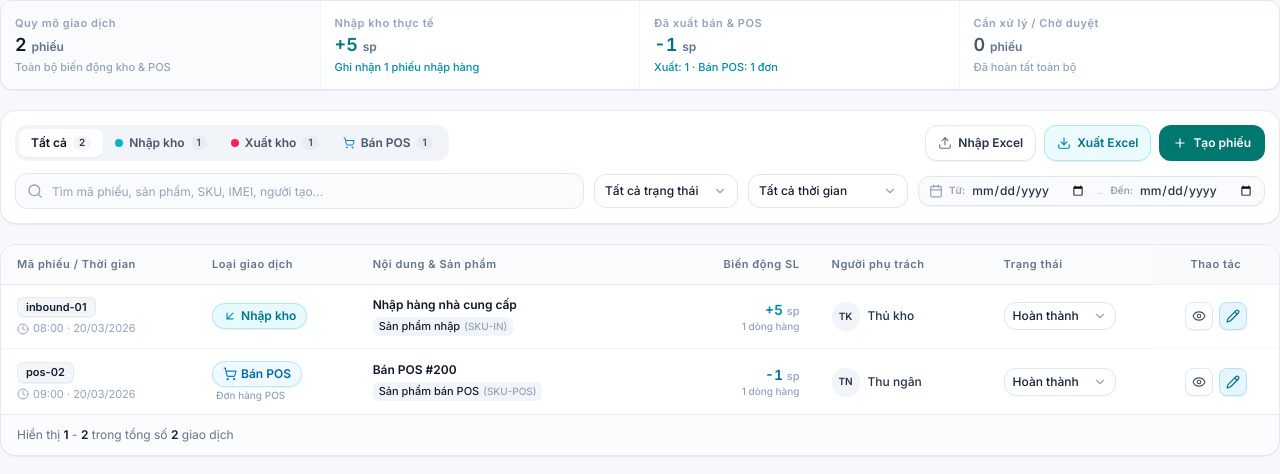
Test: StockLogPanel › lọc đúng danh sách khi bấm vào tab Bán POS
The width and height of the screenshot is (1280, 474).
Expected: the text "Nhập hàng nhà cung cấp" is shown, [373,297,517,312]
Expected: the text "Bán POS #200" is shown, [373,362,457,377]
// Click Bán POS pill
Click the button "Bán POS 1" at [388, 143], box [331,129,445,157]
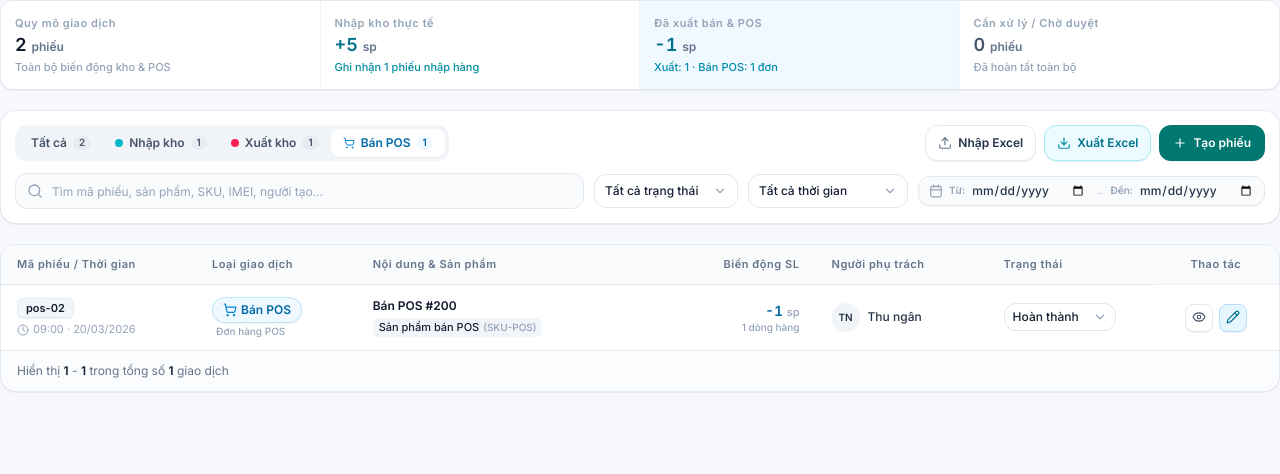
Expected: the text "Bán POS #200" is shown, [373,298,457,313]
Expected: the text "Nhập hàng nhà cung cấp" is gone
